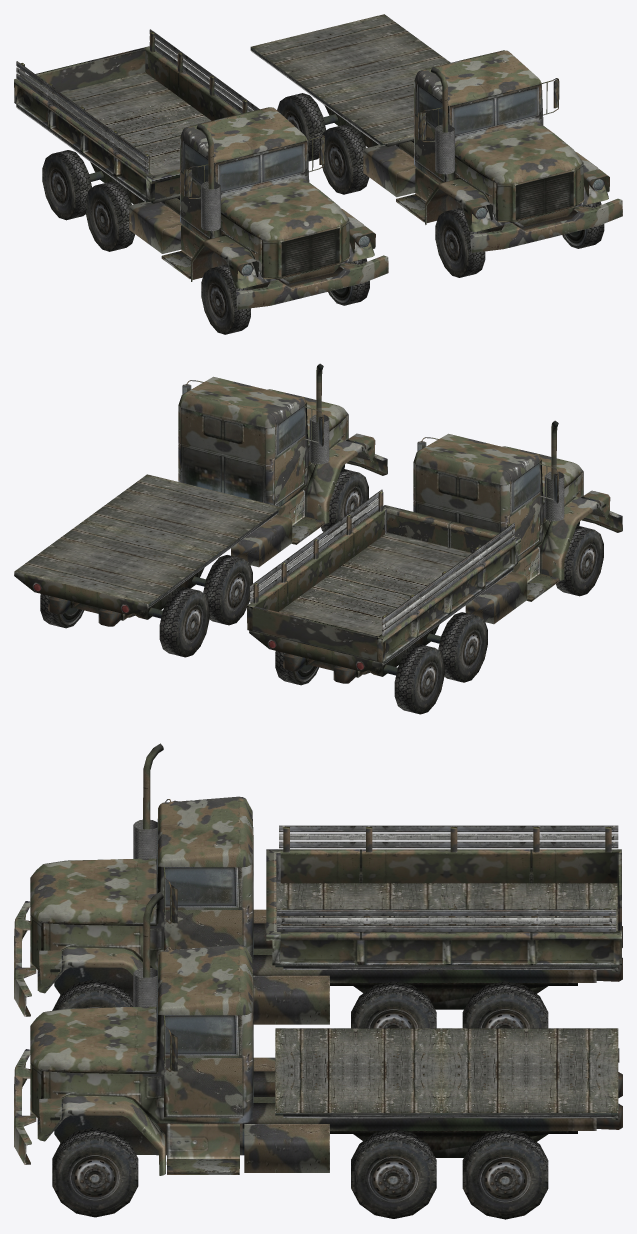
Rendered from truck.glb.
The picture shows the model from 3 angles, top to bottom: view 1: azimuth 30°, elevation 25°; view 2: azimuth 150°, elevation 25°; view 3: azimuth 270°, elevation 25°; orthographic projection. The views are drawn at different scales.
Visible parts, largest first — view 1: Truck 1, Truck 2; view 2: Truck 1, Truck 2; view 3: Truck 1, Truck 2.
Boxes of the visible parts, left/top/right/bottom form: Truck 1: left=14, top=29, right=388, bottom=334; Truck 2: left=250, top=14, right=622, bottom=277; Truck 1: left=247, top=420, right=622, bottom=714; Truck 2: left=14, top=363, right=387, bottom=657; Truck 1: left=14, top=743, right=622, bottom=1028; Truck 2: left=14, top=891, right=622, bottom=1219.
Size of the model in its own units: 7.49 by 3.54 by 7.92.
Materials: 1 (1 with a texture image).
